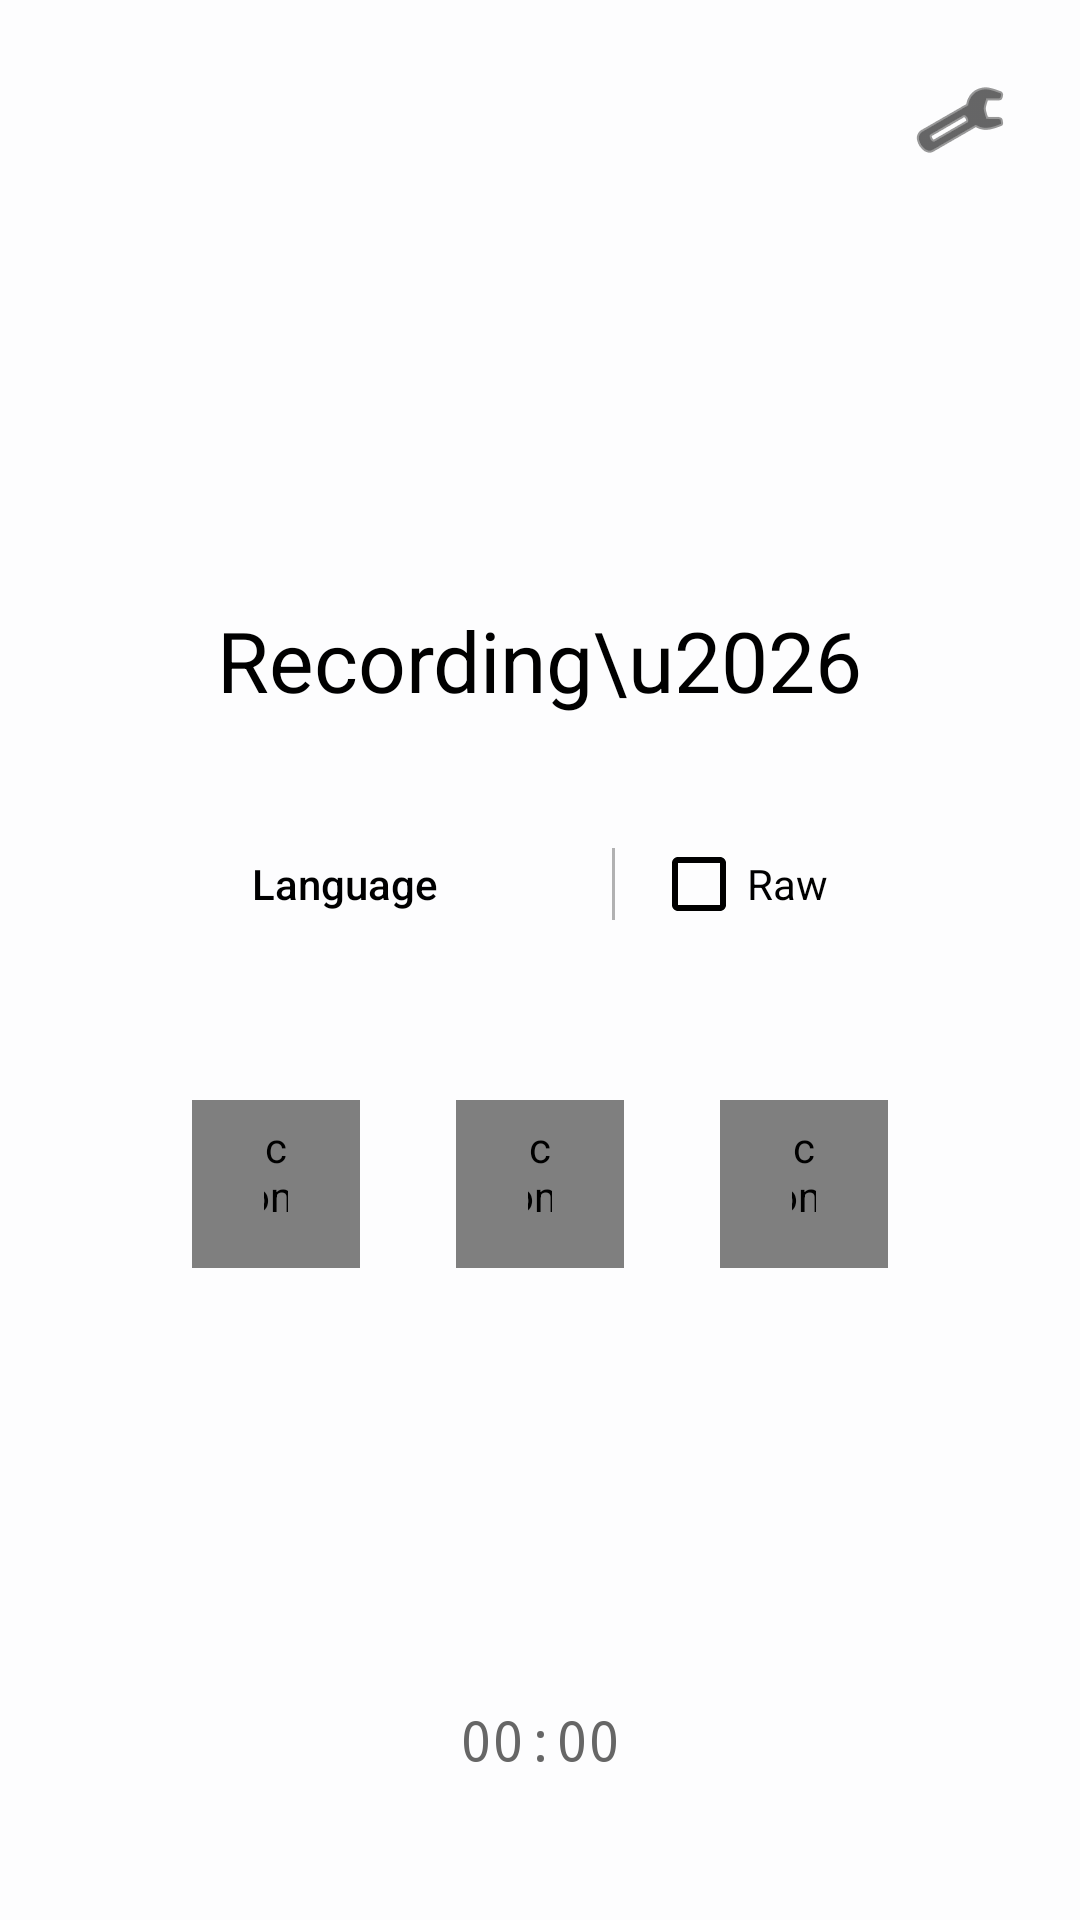

Icons on this 1080px×1920px Android screen, each with the point to tap as [x,y]:
Settings: [960,120]
